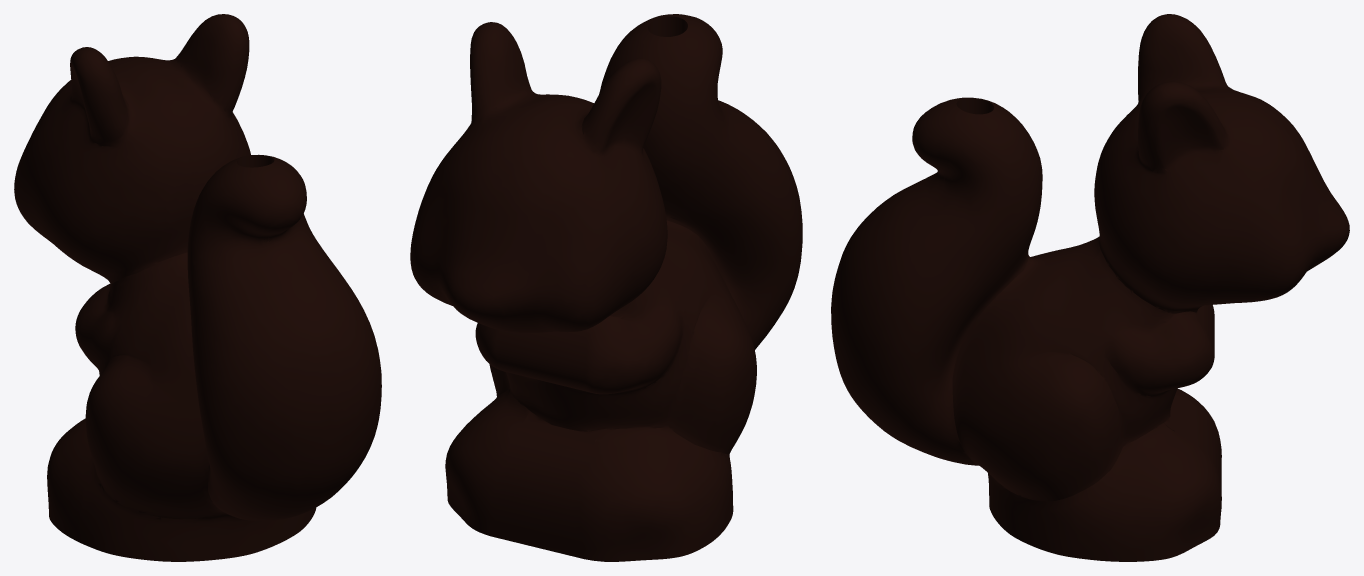
The model's file is 4668_reddish_brown.obj.
3 renders of one model, left to right at view 1: azimuth 30°, elevation 25°; view 2: azimuth 150°, elevation 25°; view 3: azimuth 270°, elevation 25°, orthographic. The views are drawn at different scales.
Visible parts, largest first — view 1: 4668_reddish_brown; view 2: 4668_reddish_brown; view 3: 4668_reddish_brown.
Part boxes in pixels (left/top/right/bottom): 4668_reddish_brown: left=14, top=14, right=381, bottom=561; 4668_reddish_brown: left=410, top=14, right=802, bottom=561; 4668_reddish_brown: left=831, top=14, right=1349, bottom=561.
Bounding box in the file's own units: 27.81 × 51.46 × 53.15.
